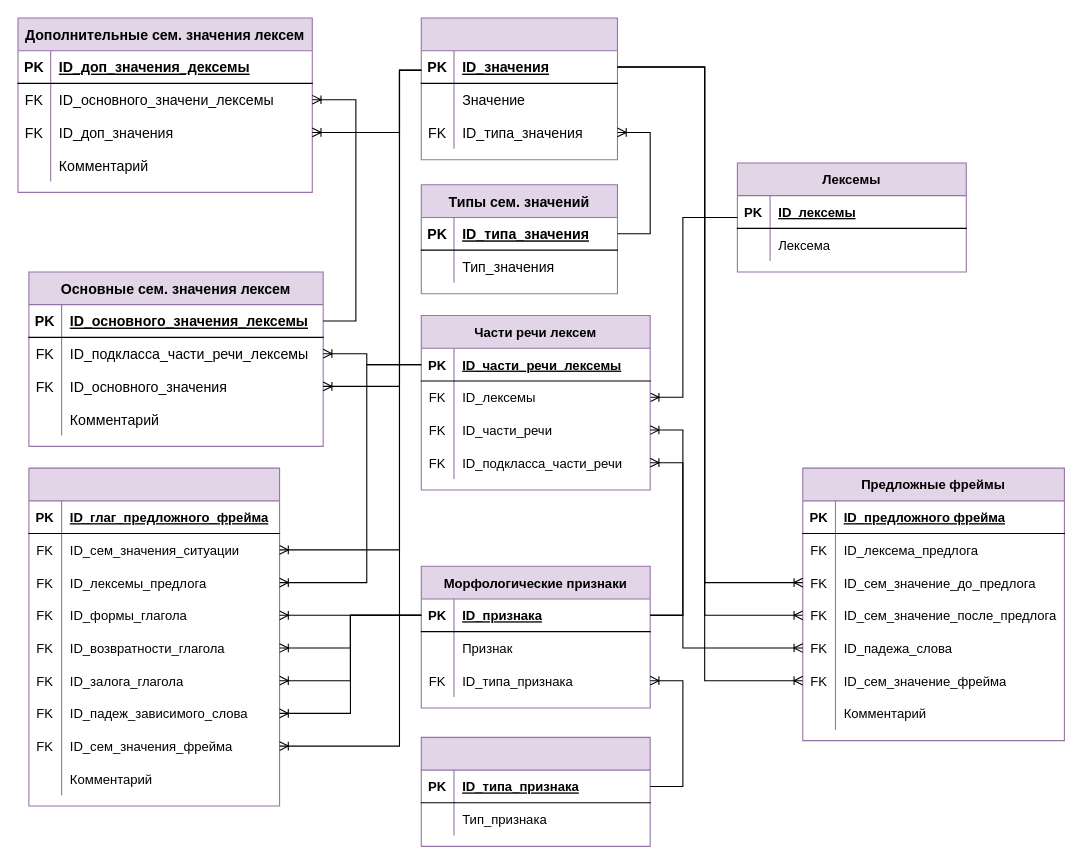
Image size: 1082x864. Some labels were removed from this diagram. Here are the shapes that lost their labels. From the top down, the box of each, then its label:
(420, 17, 617, 160): Семантические значения
(28, 467, 280, 806): Глагольно-предложные фреймы
(420, 736, 650, 846): Типы морф. признаков
